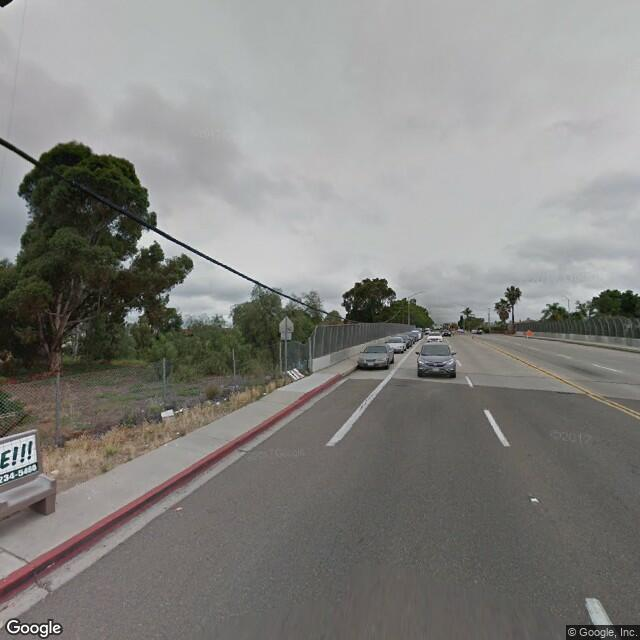litter: (155, 404, 179, 421), (198, 396, 221, 407)
